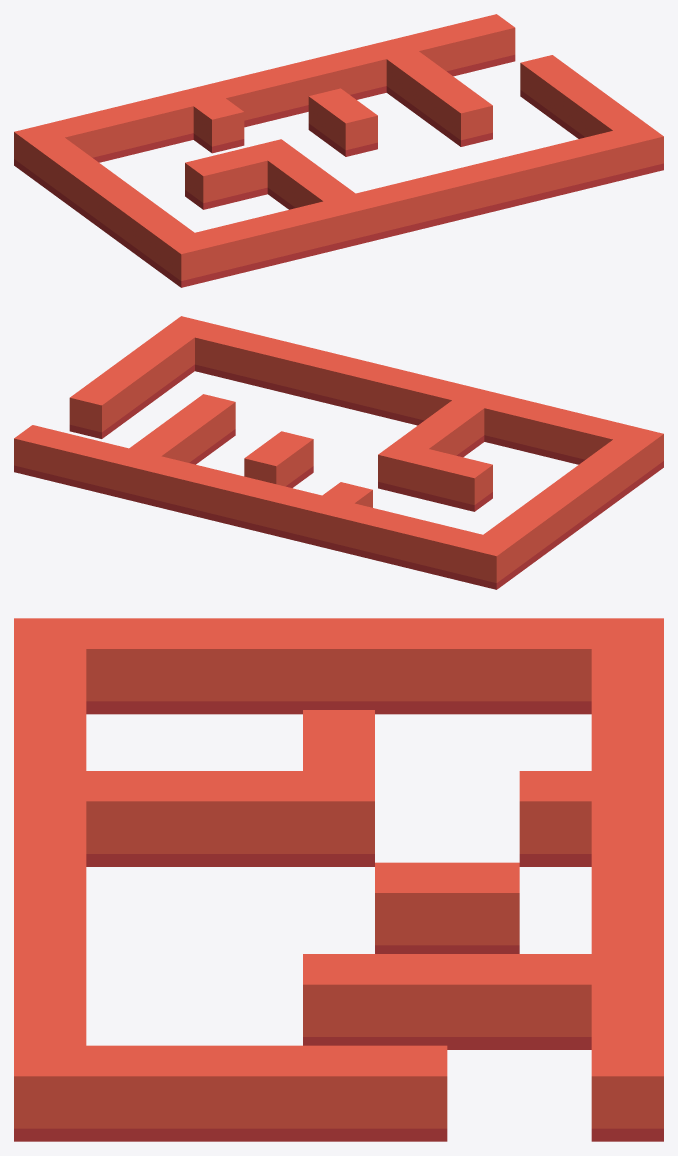
The model's file is map1.obj.
The picture shows the model from 3 angles, top to bottom: view 1: azimuth 30°, elevation 25°; view 2: azimuth 150°, elevation 25°; view 3: azimuth 270°, elevation 25°; orthographic projection. The views are drawn at different scales.
Parts seen in each view (by area): view 1: mergedBlocks; view 2: mergedBlocks; view 3: mergedBlocks.
Part boxes in pixels (box(x1,y1,x2,y2)): mergedBlocks: box(14, 14, 663, 287); mergedBlocks: box(14, 316, 663, 589); mergedBlocks: box(14, 618, 663, 1141).
Bounding box in the file's own units: 15 × 1 × 9.
